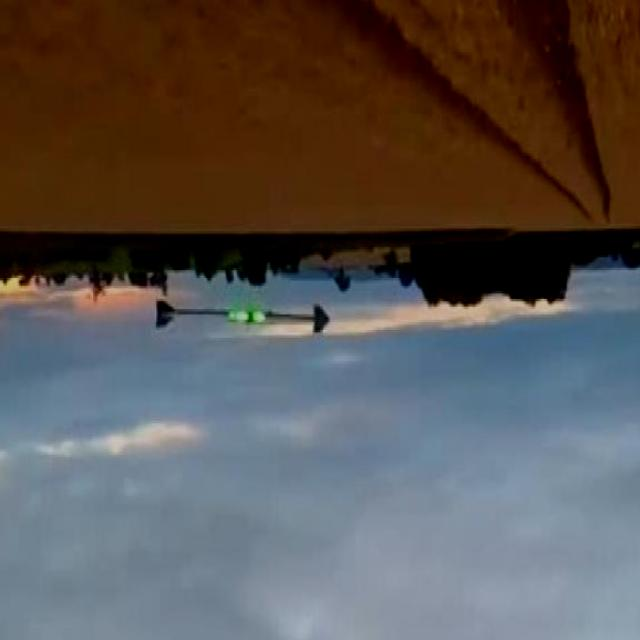plane: (153, 300, 330, 336)
